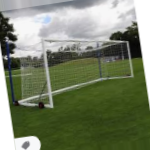goals: (16, 37, 136, 109)
